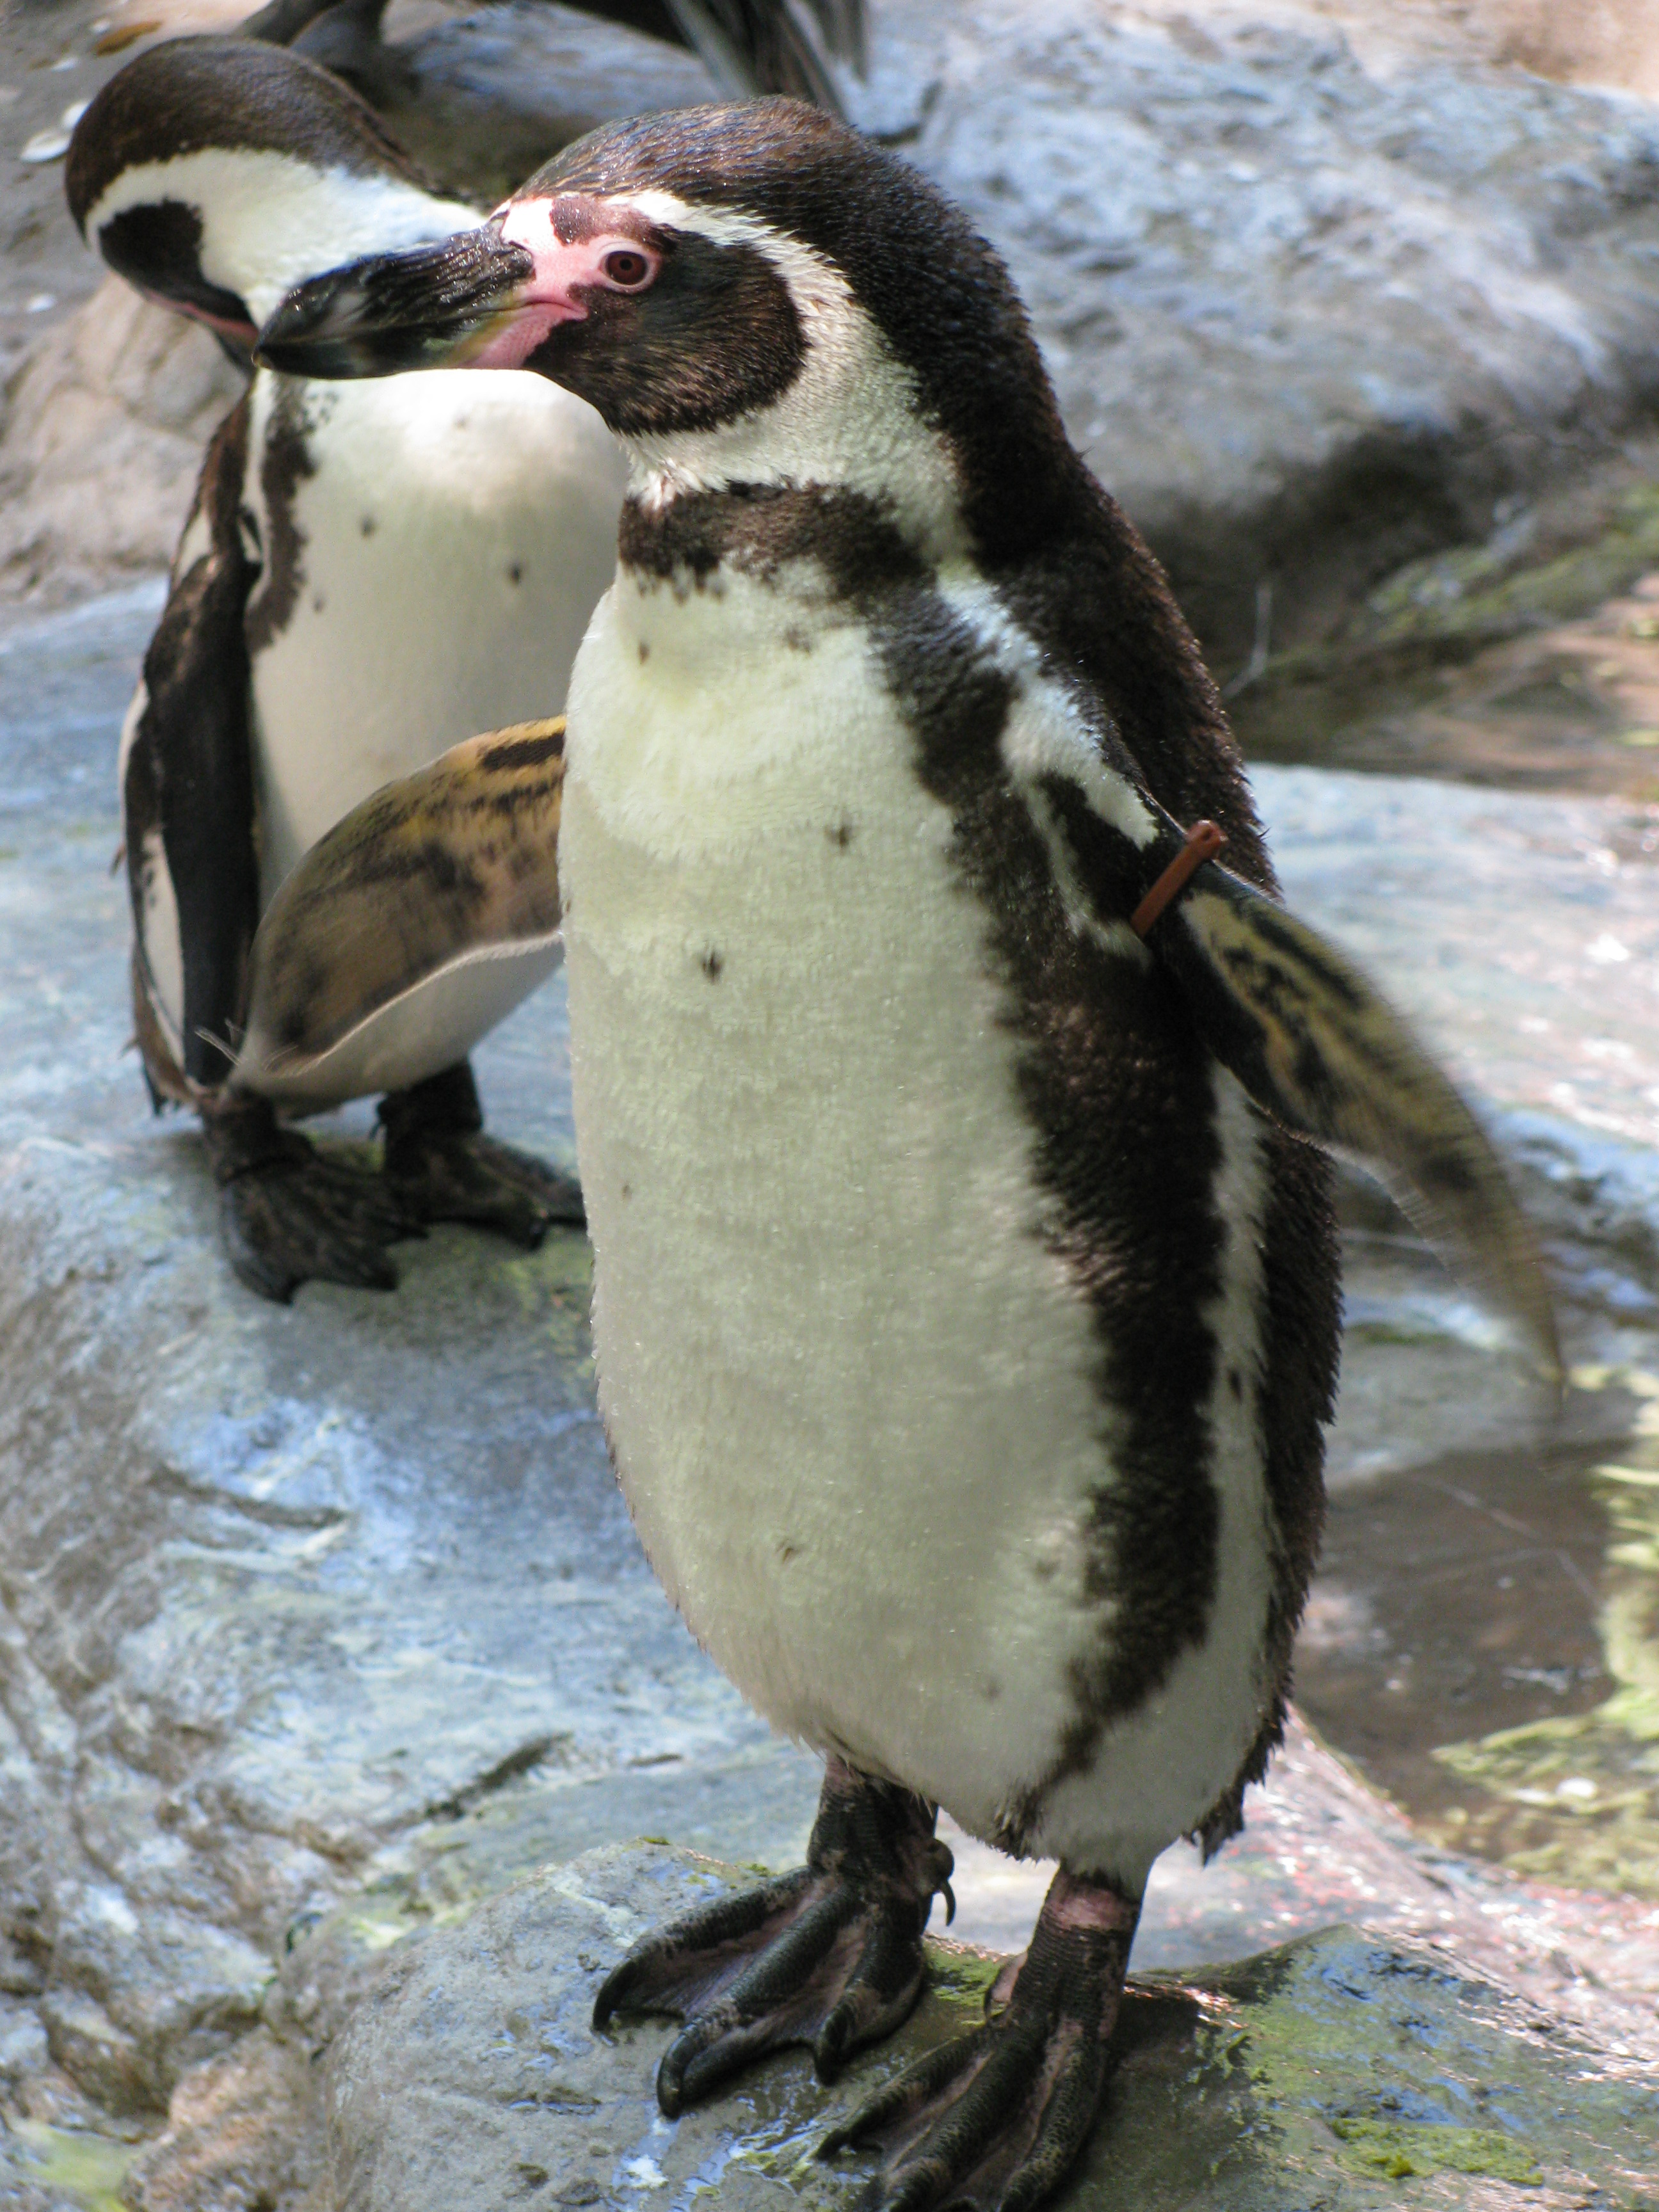penguin: (232, 94, 1589, 2212)
